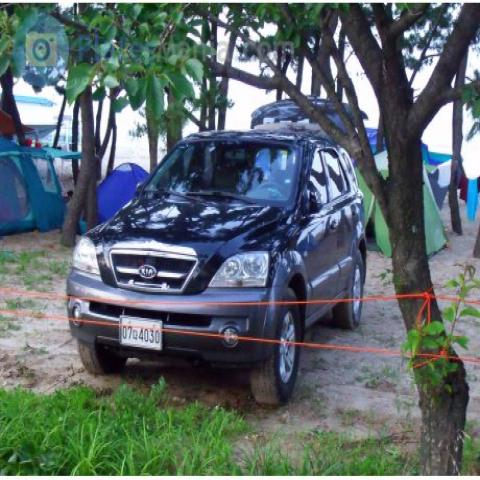LP: (114, 304, 168, 355)
